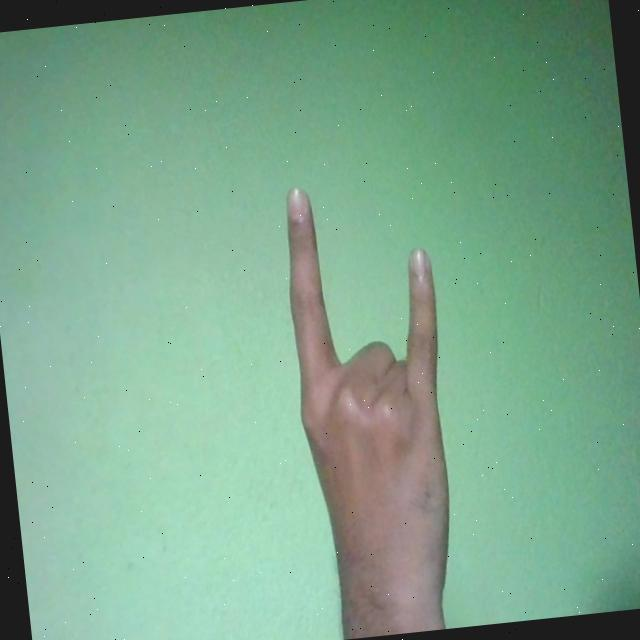open Plam: (276, 175, 470, 640)
